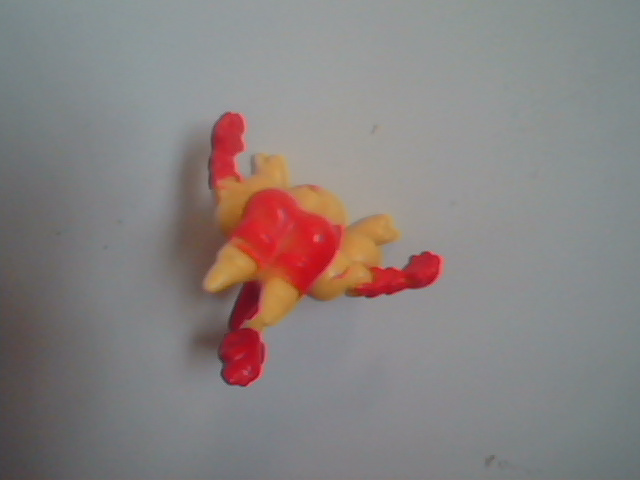magmar: (158, 53, 531, 421)
